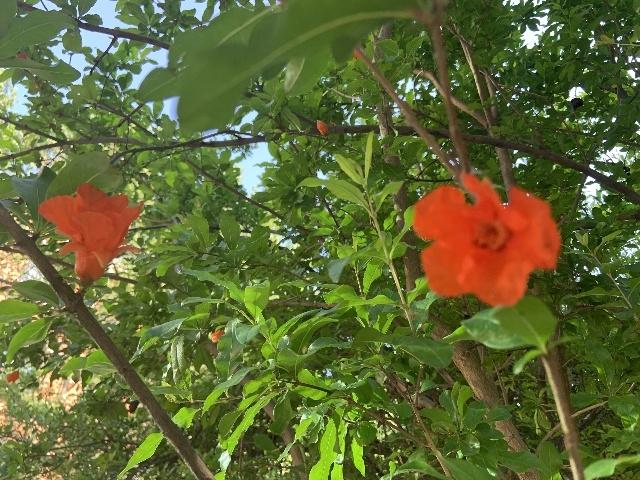bud: (316, 120, 328, 135)
flower: (413, 173, 562, 307), (39, 182, 143, 283), (6, 371, 20, 383), (211, 330, 224, 342)
